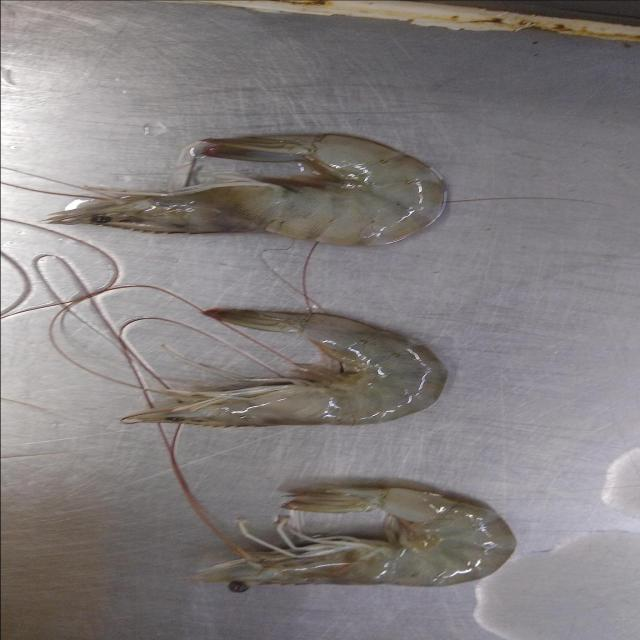shrimp: (47, 134, 444, 245), (122, 309, 447, 428), (189, 488, 516, 590)
